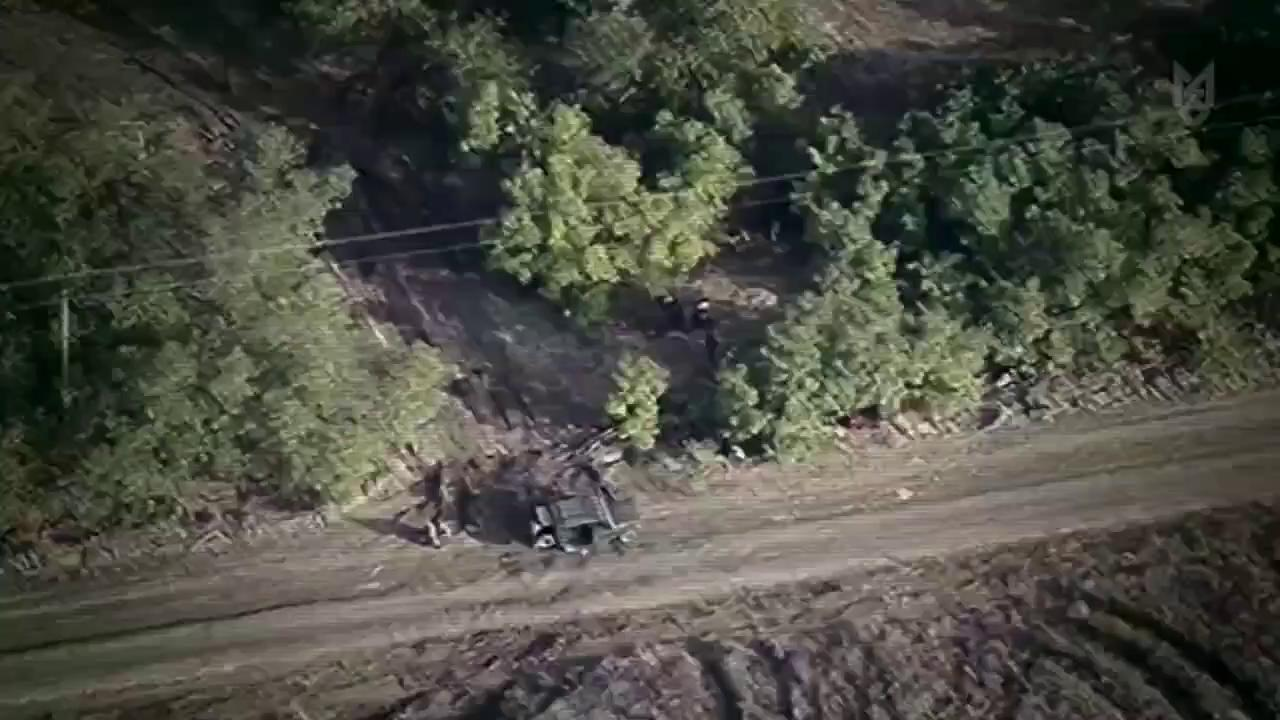tank: (514, 481, 648, 559)
